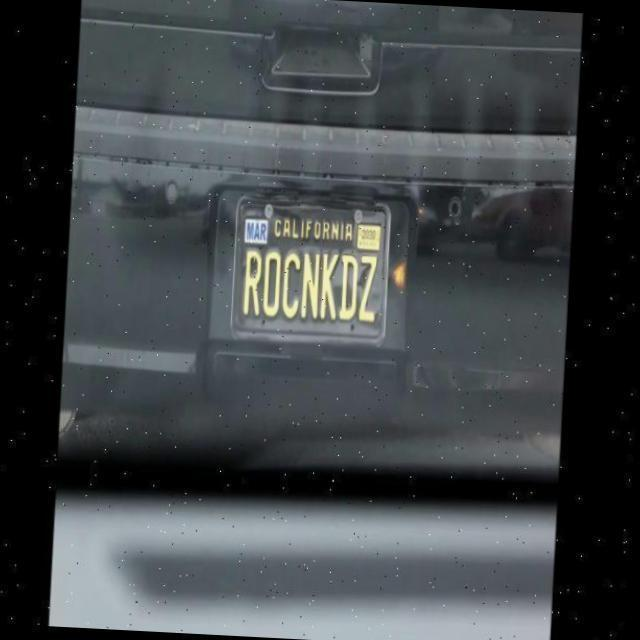license_plate: (233, 196, 391, 344)
